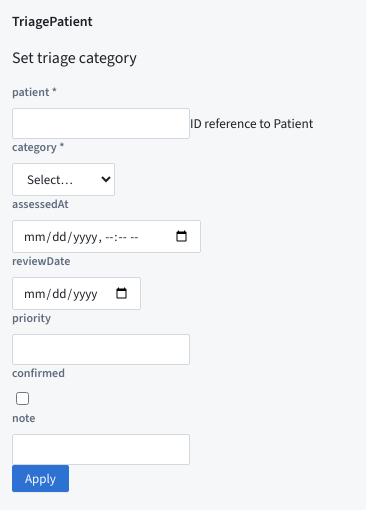
it: submitting › shows a refusal against the field the server named
The image size is (366, 510).
Type "p-1" into the field labelled "patient *".
click(101, 124); type("p-1")  # box [12,108,190,139]
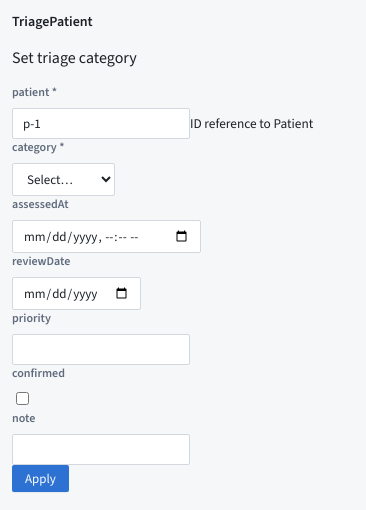
Select "URGENT" in the dropdown labelled "category *" at x=64, y=180, box [12,163,115,196]
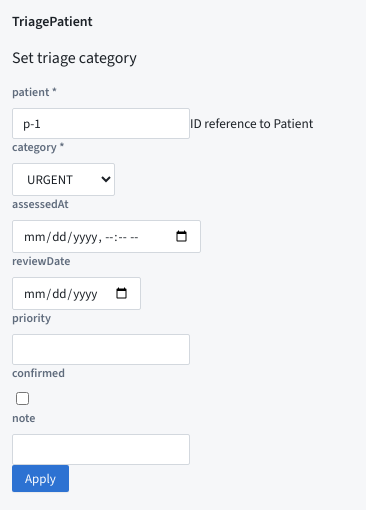
Click the button "Apply".
click(40, 479)  # box [12,465,69,492]
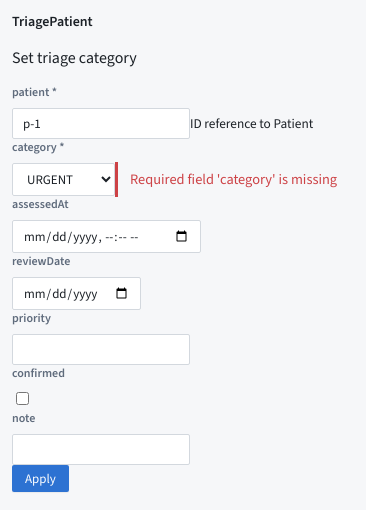
Result: the text "Required field 'category' is missing" is shown at [115,162,349,197]
